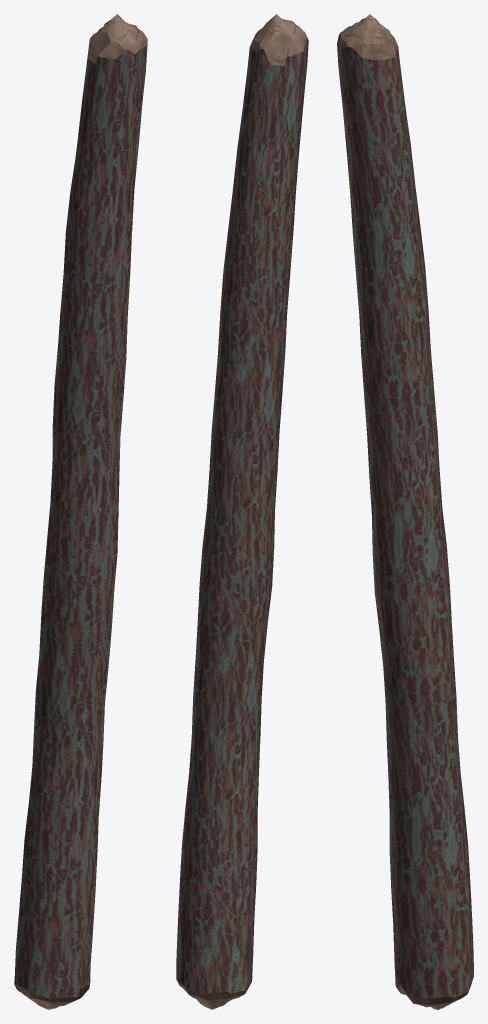
3 views of the same model, side by side, from view 1: azimuth 90°, elevation 25°; view 2: azimuth 150°, elevation 25°; view 3: azimuth 330°, elevation 25° (orthographic). The views are drawn at different scales.
Visible parts, largest first — view 1: SM_MapleTree_02_half_mid_LOD0; view 2: SM_MapleTree_02_half_mid_LOD0; view 3: SM_MapleTree_02_half_mid_LOD0.
Boxes of the visible parts, x1,y1,x2,y2 form: SM_MapleTree_02_half_mid_LOD0: (14,14,147,1009); SM_MapleTree_02_half_mid_LOD0: (176,14,308,1009); SM_MapleTree_02_half_mid_LOD0: (337,14,473,1009).
Bounding box in the file's own units: 0.7121 × 7.28 × 0.8708.
